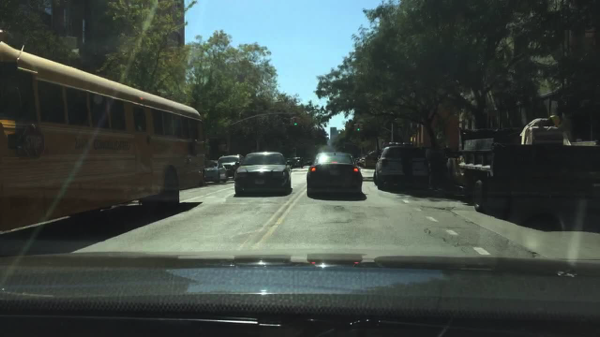bus: (0, 41, 207, 233)
car: (372, 141, 429, 191), (235, 151, 292, 197), (307, 152, 363, 198), (218, 154, 244, 180), (203, 159, 229, 183), (365, 154, 377, 170), (292, 156, 303, 169), (354, 158, 365, 168), (302, 157, 311, 167), (285, 157, 292, 169)
person: (518, 115, 562, 147), (401, 149, 415, 191)
traffic light: (296, 117, 301, 127), (355, 123, 360, 132), (360, 124, 365, 132), (293, 117, 297, 126), (289, 118, 293, 127), (353, 125, 356, 133)
truck: (441, 124, 599, 213)
